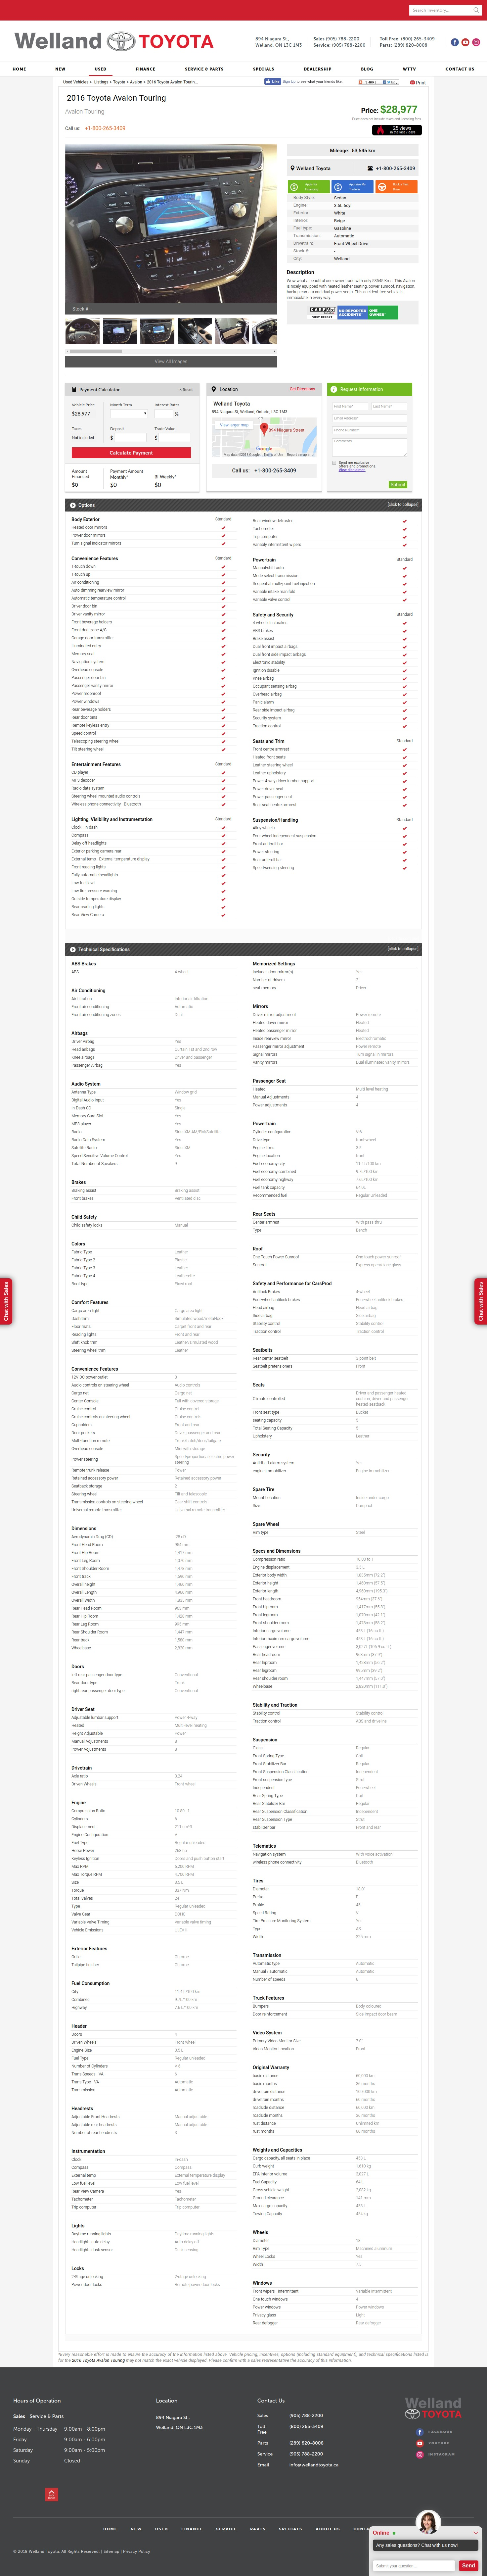car: (267, 220, 274, 228)
